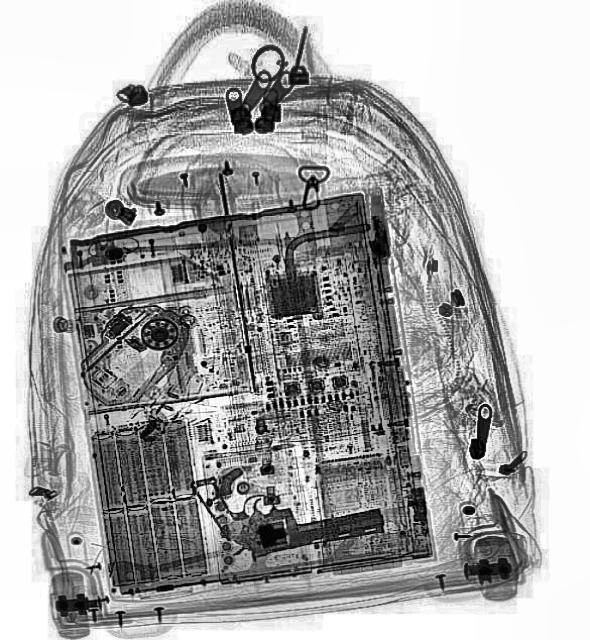Gun: (188, 453, 390, 561)
